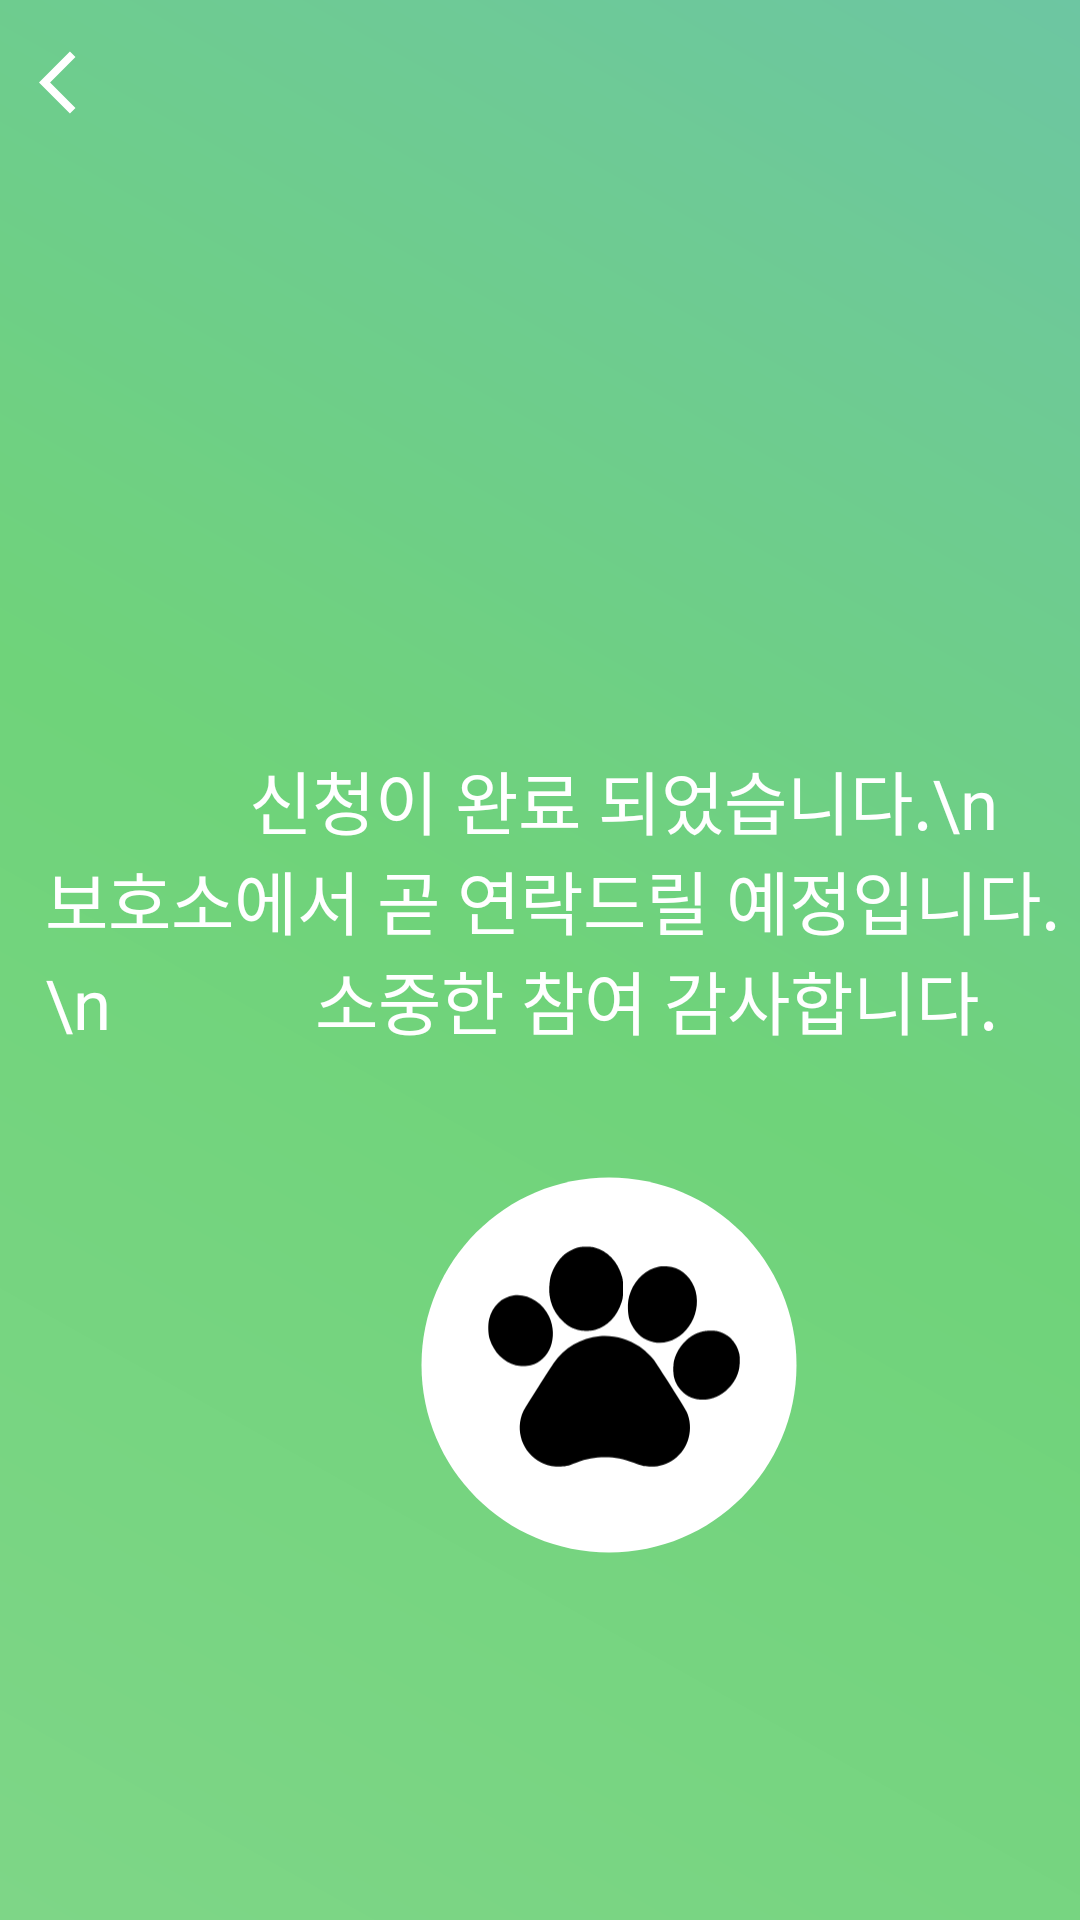

Icons on this 1080 × 1920 Android screen, each with its box as (x1, y1, x2, y2):
arrow back: (39, 52, 75, 113)
